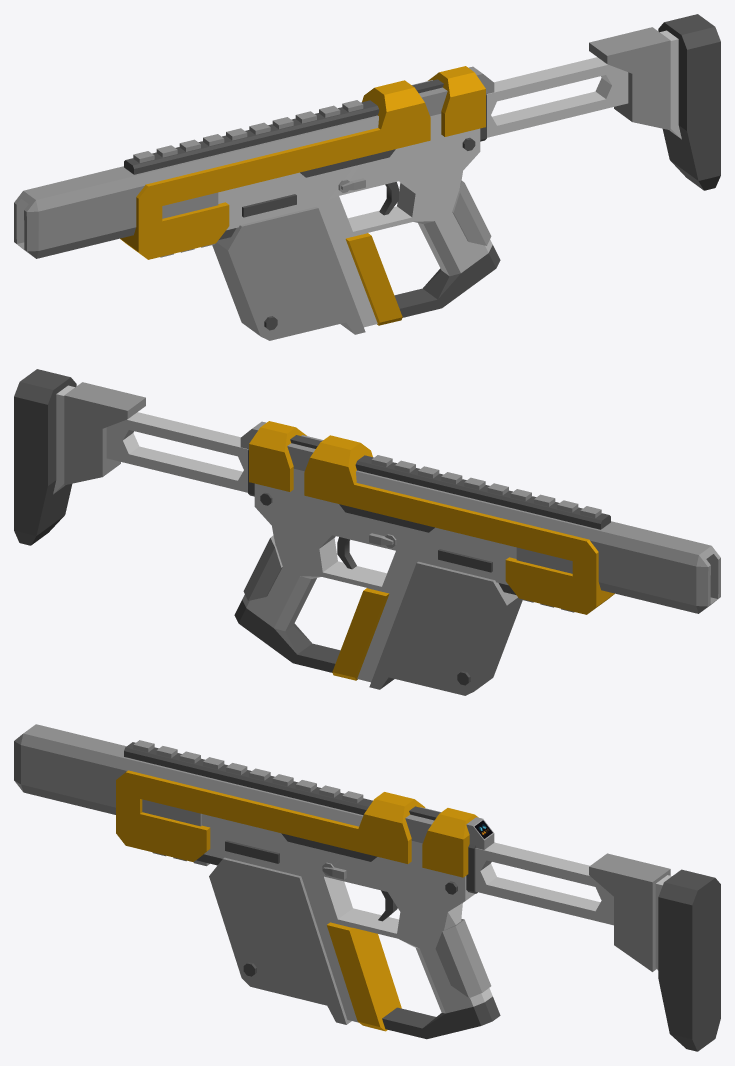
Rendered from SM_SMG01.fbx.
3 views of the same model, one above another, from view 1: azimuth 30°, elevation 25°; view 2: azimuth 150°, elevation 25°; view 3: azimuth 330°, elevation 25° (orthographic).
Visible parts, largest first — view 1: SM_SMG01; view 2: SM_SMG01; view 3: SM_SMG01.
Part boxes in pixels (<box>): SM_SMG01: <box>14,14,720,340</box>; SM_SMG01: <box>14,369,720,695</box>; SM_SMG01: <box>14,724,720,1051</box>.
Bounding box in the file's own units: 58.62 × 18.65 × 4.26.
6 materials, 1 textured.
